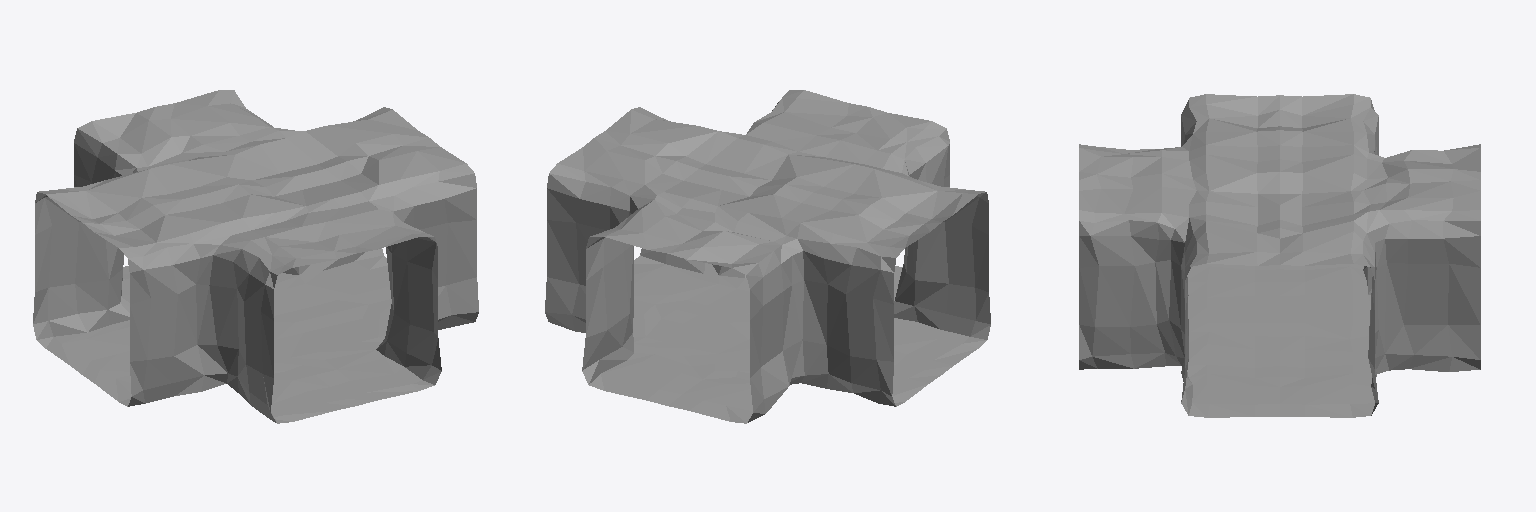
Rendered from Shaft_Intersection.obj.
3 views of the same model, side by side, from view 1: azimuth 30°, elevation 25°; view 2: azimuth 150°, elevation 25°; view 3: azimuth 270°, elevation 25° (orthographic).
Visible parts, largest first — view 1: Shaft_Intersection; view 2: Shaft_Intersection; view 3: Shaft_Intersection.
Boxes of the visible parts, x1=… form: Shaft_Intersection: x1=33, y1=90, x2=478, y2=423; Shaft_Intersection: x1=545, y1=90, x2=990, y2=423; Shaft_Intersection: x1=1079, y1=94, x2=1480, y2=417.
Bounding box in the file's own units: 5.98 × 2.54 × 5.98.